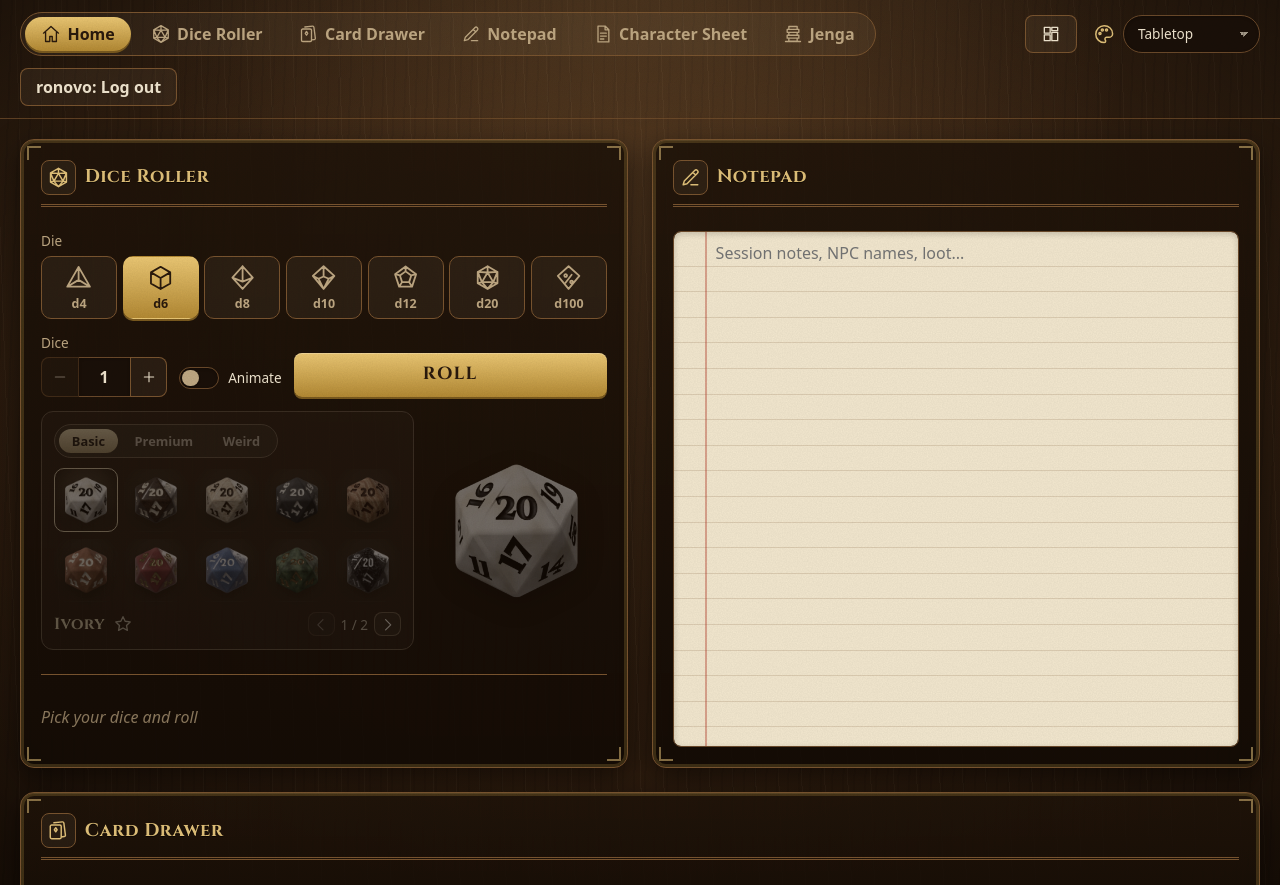
portfolio login in the header › logs out with a same-site request, with or without the dice list answering
Click the button "ronovo: Log out" at point(99, 87), box [20,68,177,106]
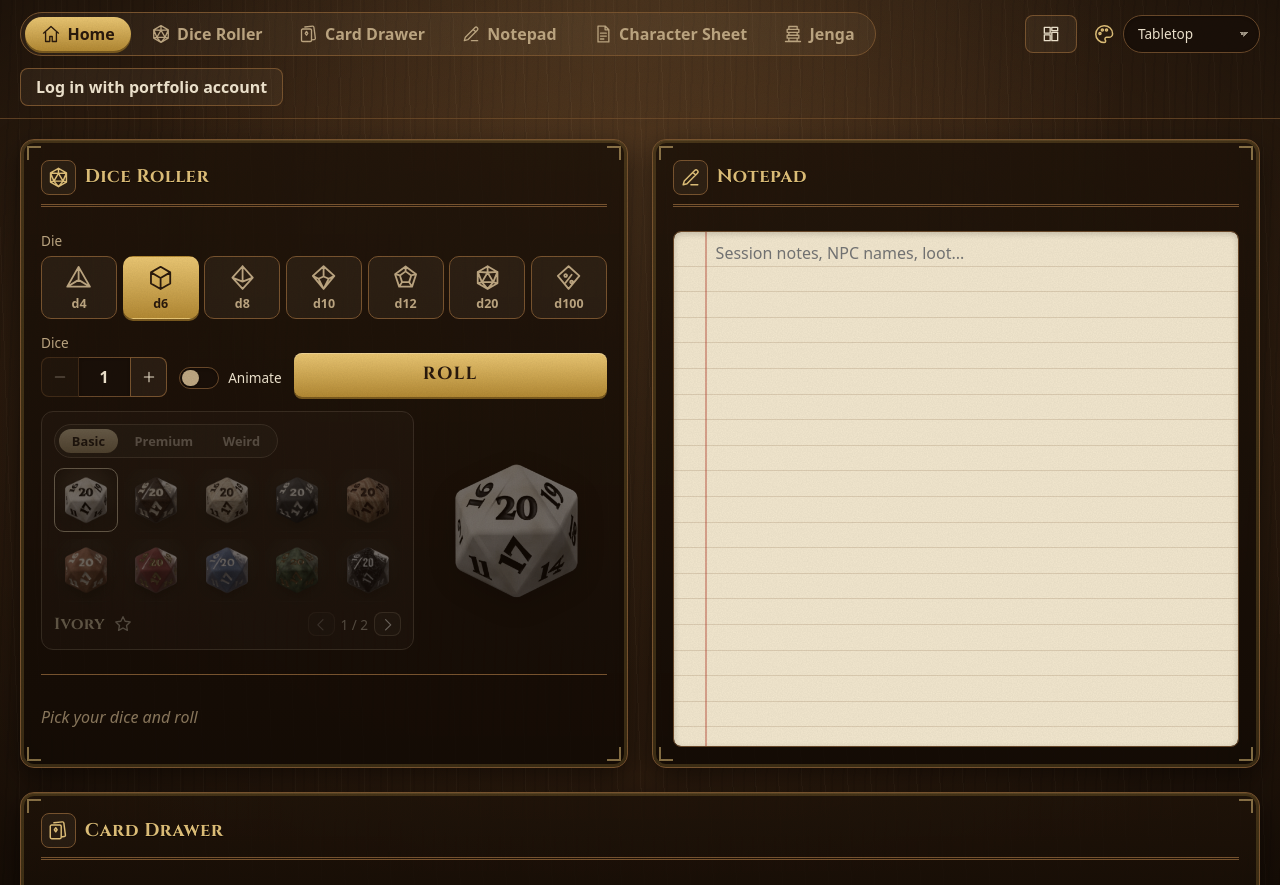
Result: the link "Log in with portfolio account" is shown at [20,68,283,106]
